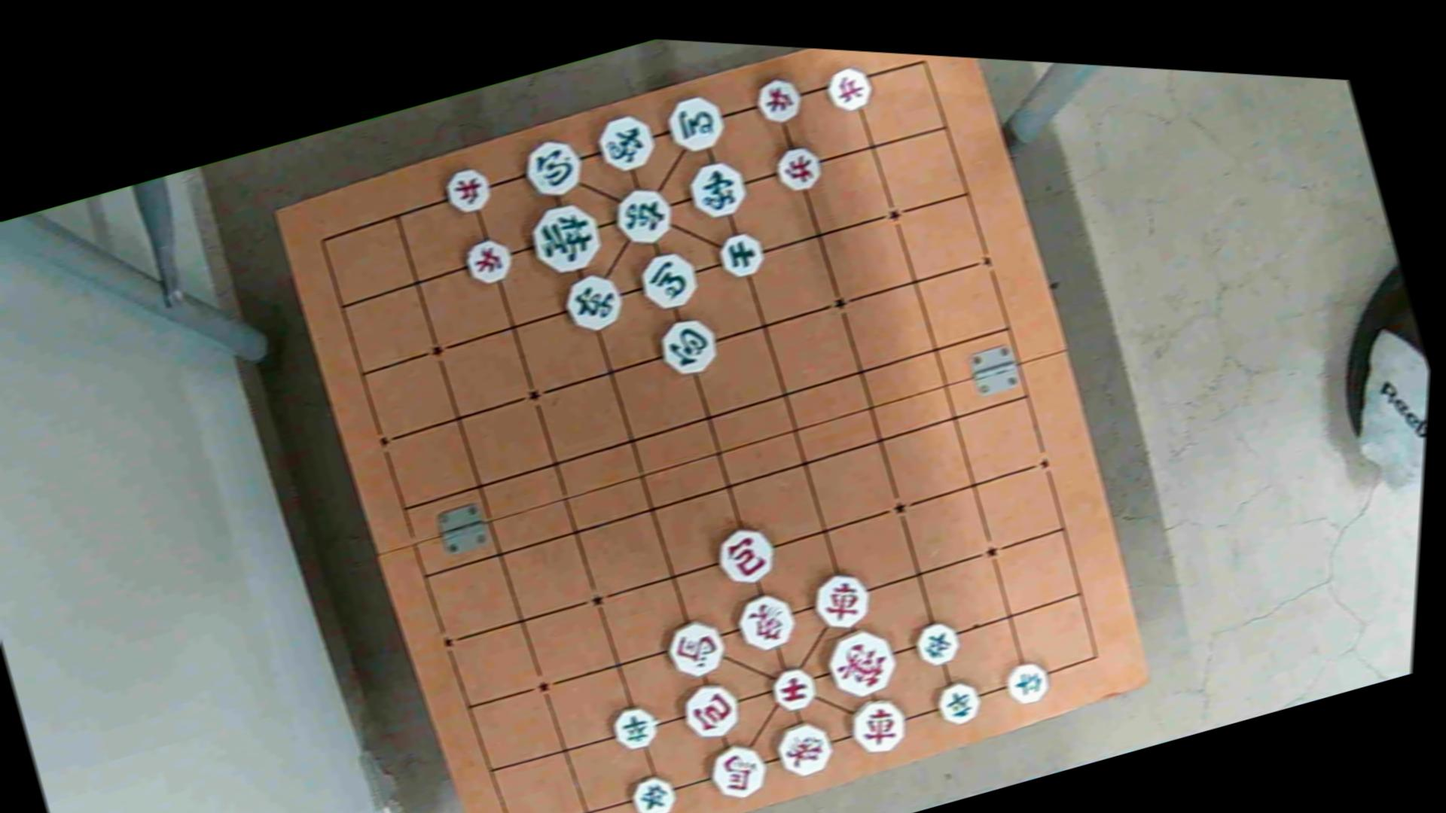cha_green: (557, 265, 630, 339), (606, 181, 679, 251)
cha_red: (840, 690, 918, 764), (801, 566, 874, 635)
jol_green: (605, 703, 664, 756), (909, 617, 966, 671), (929, 678, 986, 731), (1000, 658, 1056, 709), (624, 771, 682, 813)
jol_red: (458, 233, 520, 291), (747, 73, 807, 130), (767, 142, 828, 196), (819, 62, 877, 115), (440, 164, 494, 217)
ma_green: (631, 242, 704, 318), (656, 89, 730, 159)
ma_red: (656, 611, 736, 689), (701, 738, 774, 806)
po_green: (648, 312, 723, 382), (517, 132, 590, 202)
po_red: (706, 522, 779, 591), (673, 678, 746, 746)
sa_green: (710, 225, 769, 282)
sa_red: (765, 663, 822, 715)
sang_green: (588, 104, 661, 178), (680, 155, 756, 224)
sang_red: (729, 589, 804, 659), (768, 714, 840, 781)
wang_green: (524, 196, 611, 282)
wang_red: (816, 622, 905, 705)
